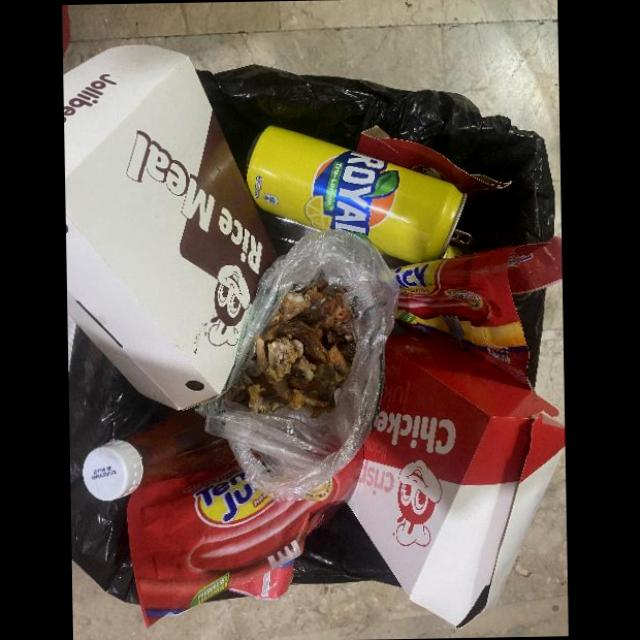bao_bi_thuc_pham: (126, 446, 363, 627), (390, 236, 562, 393)
carton: (64, 43, 278, 410), (346, 337, 565, 628), (356, 125, 506, 193)
chai_thuy_tinh: (81, 408, 234, 502)
nhom: (244, 123, 467, 263)
thuc_an_thua: (217, 282, 355, 419)
tui_ni_long: (198, 229, 398, 499)
